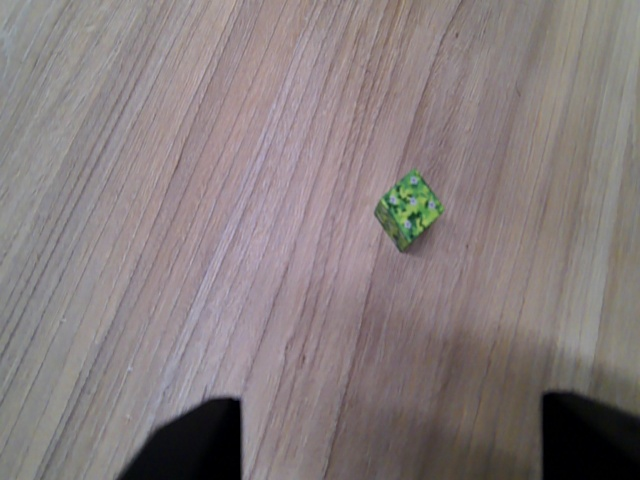grass: (373, 172, 445, 252)
